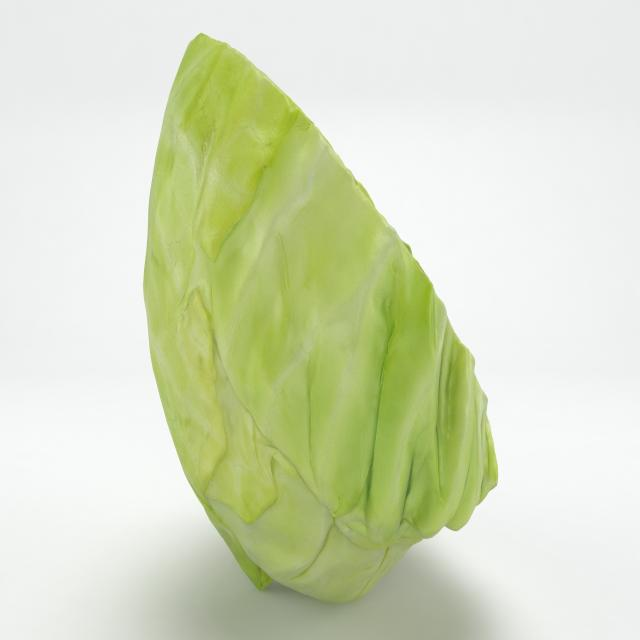haft-cabbage: (138, 0, 499, 606)
